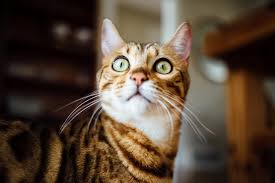cat: (87, 15, 204, 132)
